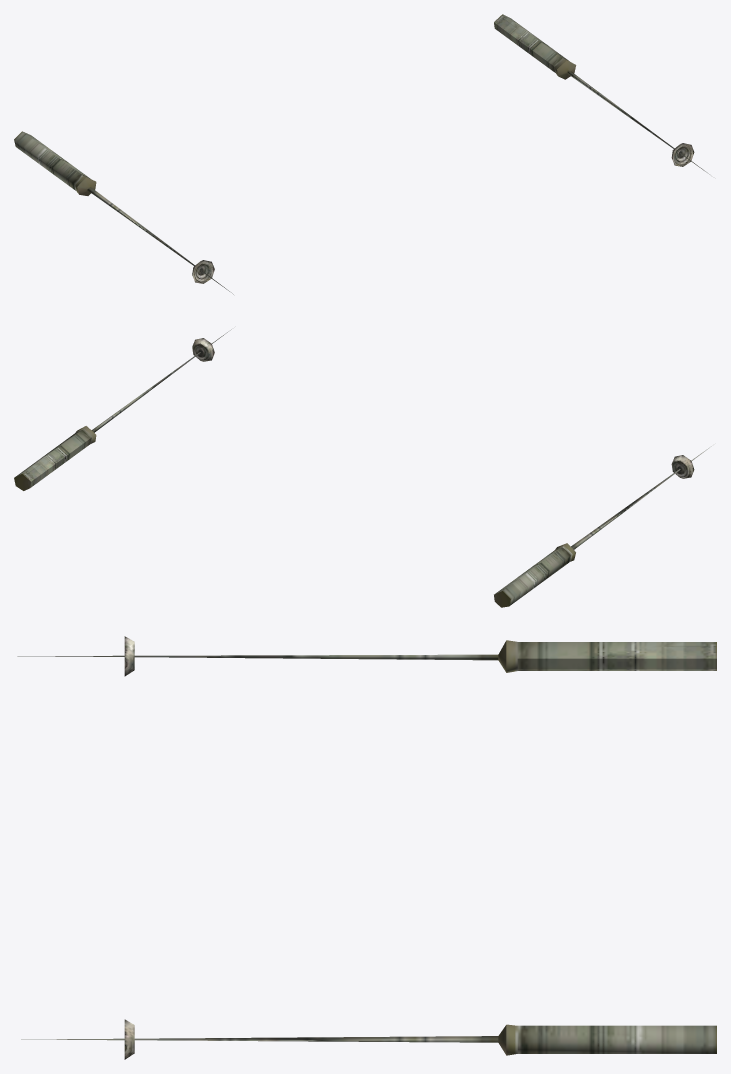
File: z95_weapon_s01_l1.fbx
The picture shows the model from 3 angles, top to bottom: view 1: azimuth 30°, elevation 25°; view 2: azimuth 150°, elevation 25°; view 3: azimuth 270°, elevation 25°; orthographic projection. The views are drawn at different scales.
Parts seen in each view (by area): view 1: mesh_node; view 2: mesh_node; view 3: mesh_node.
Part boxes in pixels (x1,y1,x2,y2): mesh_node: (14, 14, 709, 294); mesh_node: (14, 329, 711, 607); mesh_node: (17, 636, 716, 1059).
Size of the model in its own units: 15.33 by 0.6994 by 11.35.
1 material, 1 textured.
